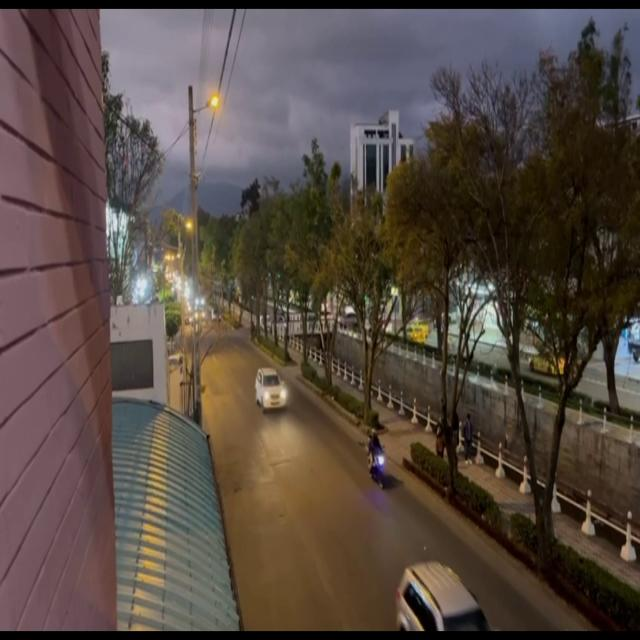MOTORCYCLE: (367, 429, 387, 492)
SUV: (396, 562, 489, 631), (256, 366, 286, 411)
